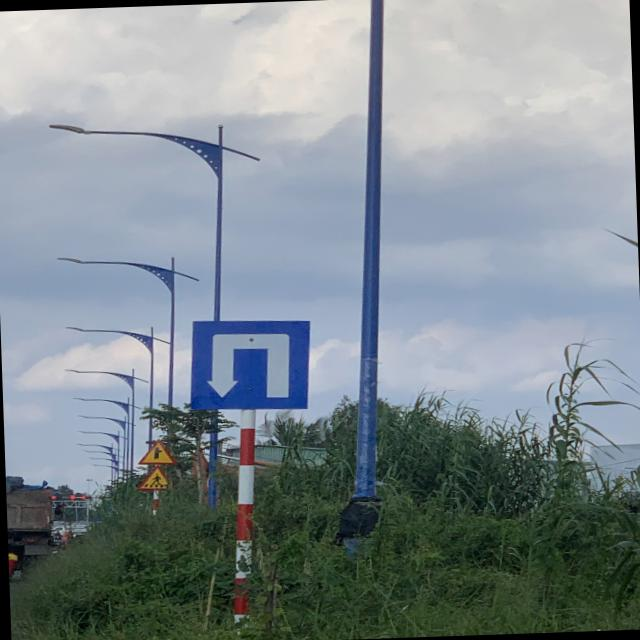Den_Giao_Thong: (186, 315, 314, 414)
